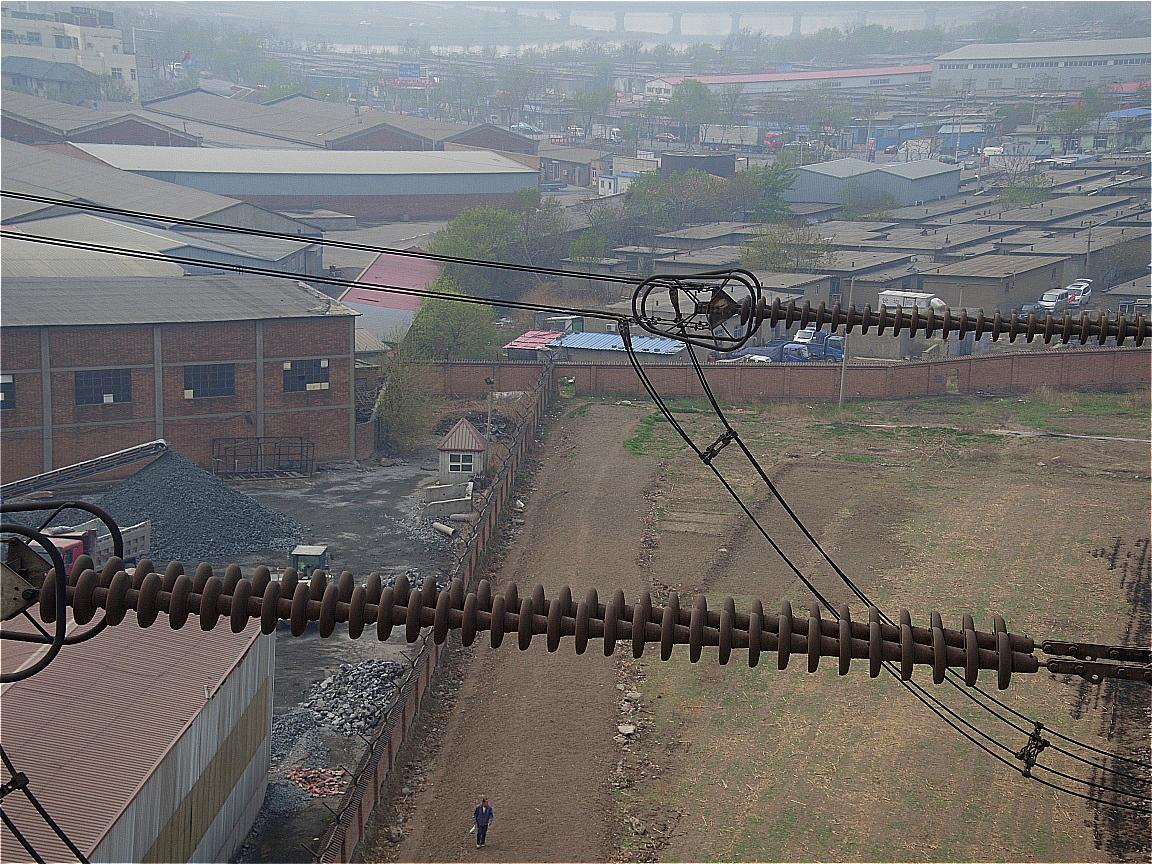insultor1: (34, 538, 1047, 701), (741, 271, 1152, 371)
